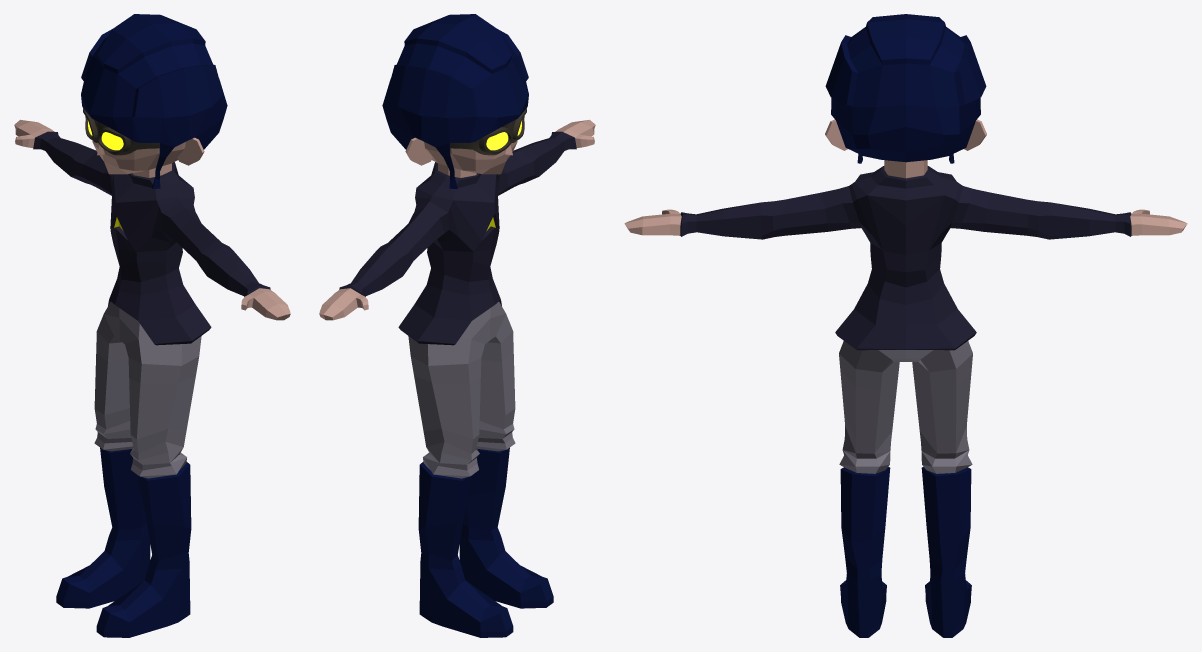
The model's file is EnemyHuman_MODEL FOR MIXAMO.fbx.
3 views of the same model, side by side, from view 1: azimuth 30°, elevation 25°; view 2: azimuth 150°, elevation 25°; view 3: azimuth 270°, elevation 25° (orthographic). The views are drawn at different scales.
Parts seen in each view (by area): view 1: 1.head, 1.head.001; view 2: 1.head, 1.head.001; view 3: 1.head.
Part boxes in pixels (bbox=[...]): 1.head: bbox=[14, 14, 290, 637]; 1.head.001: bbox=[83, 108, 159, 155]; 1.head: bbox=[319, 14, 595, 637]; 1.head.001: bbox=[450, 108, 526, 155]; 1.head: bbox=[624, 14, 1187, 637].
Size of the model in its own units: 79.18 by 333 by 279.
